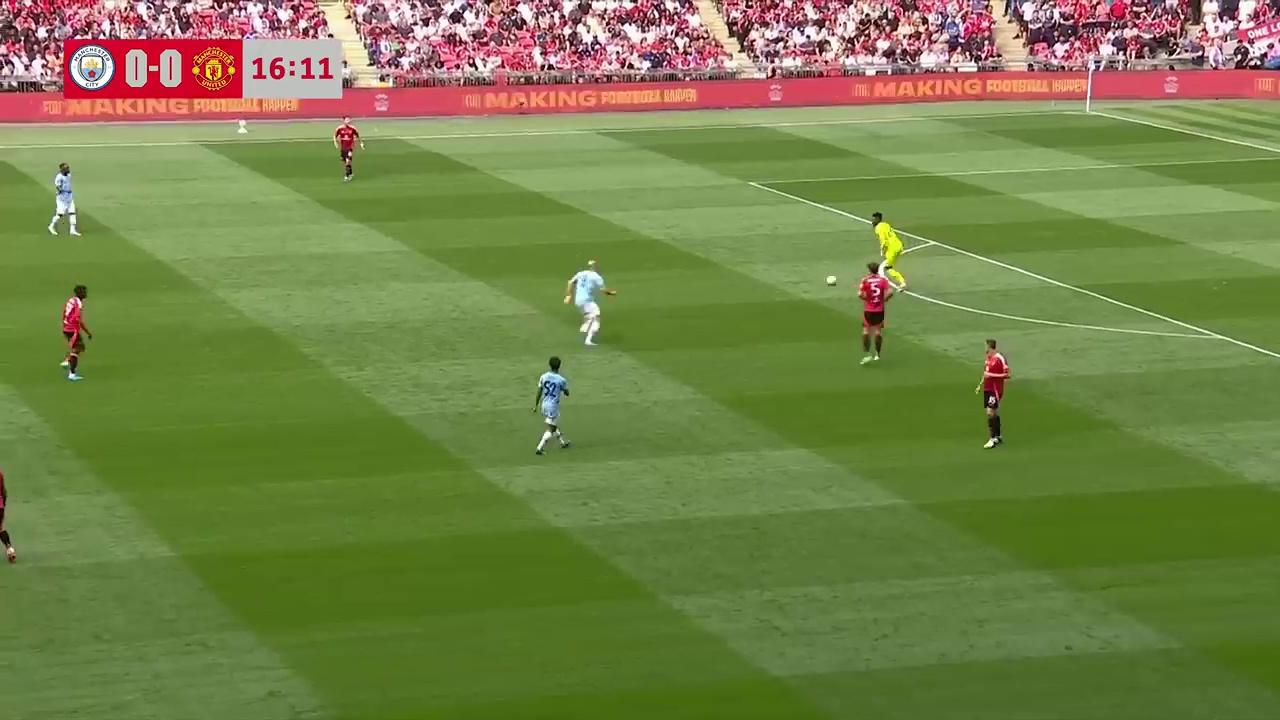ball: (823, 271, 838, 285)
player: (564, 259, 615, 351), (975, 338, 1010, 449), (534, 356, 570, 455), (856, 262, 890, 364), (60, 284, 92, 381), (873, 214, 906, 292), (47, 162, 81, 237), (0, 459, 17, 564), (335, 123, 362, 181)
